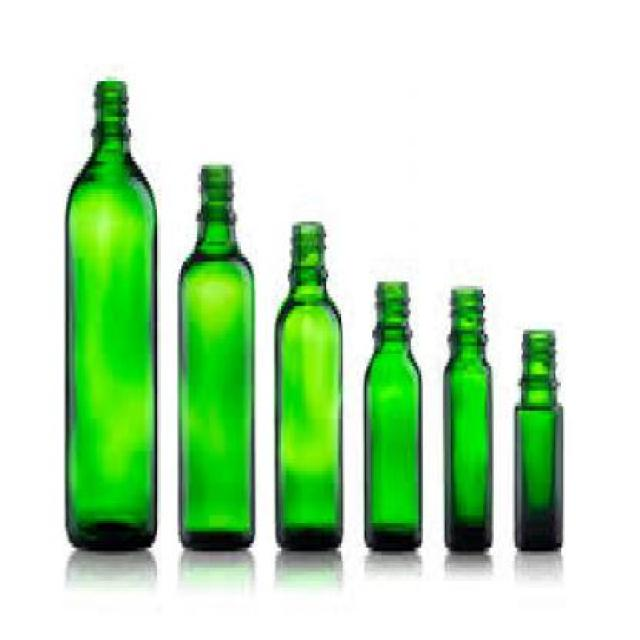kaca: (60, 77, 155, 551), (180, 162, 252, 552), (274, 222, 340, 550), (362, 278, 422, 556), (443, 286, 491, 551), (514, 326, 561, 548)
